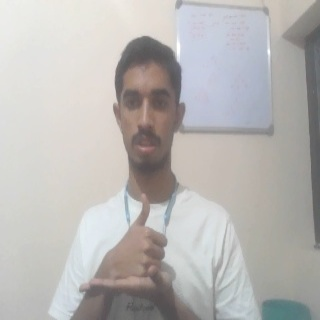Face: (110, 34, 187, 172)
Help: (77, 191, 176, 301)
